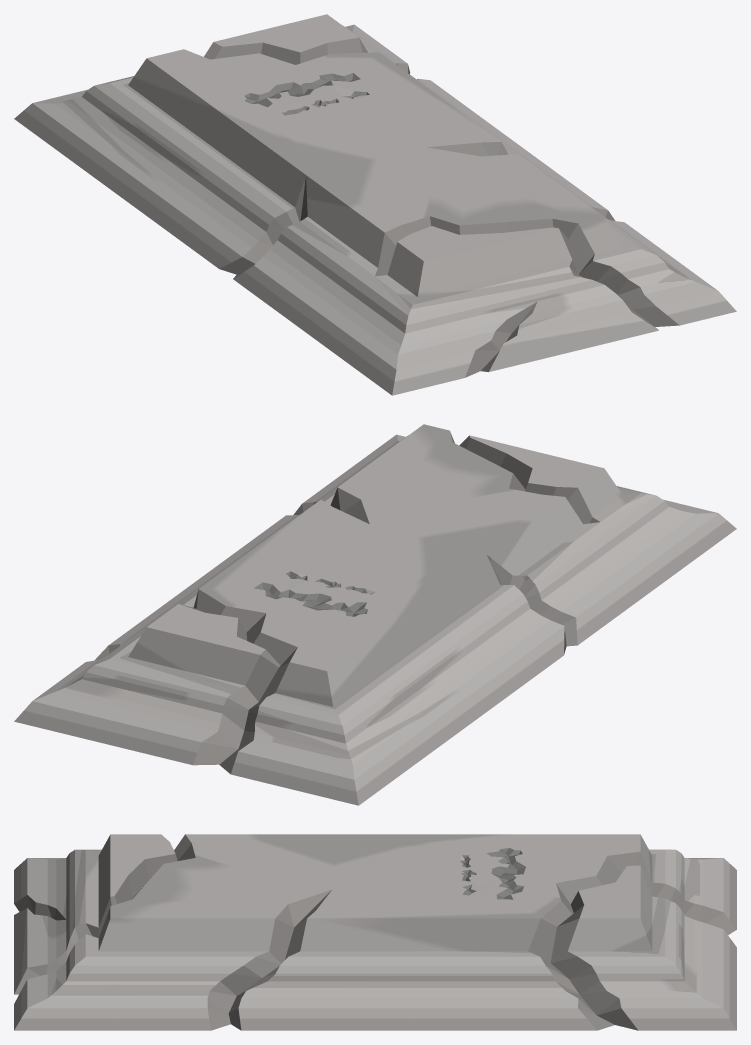
Rendered from crypt_stone_c.gltf.
3 renders of one model, top to bottom at view 1: azimuth 30°, elevation 25°; view 2: azimuth 150°, elevation 25°; view 3: azimuth 270°, elevation 25°, orthographic. The views are drawn at different scales.
Parts seen in each view (by area): view 1: crypt_stone_c; view 2: crypt_stone_c; view 3: crypt_stone_c.
Boxes of the visible parts, x1,y1,x2,y2 form: crypt_stone_c: (14, 14, 736, 395); crypt_stone_c: (14, 424, 736, 805); crypt_stone_c: (14, 834, 736, 1030).
Size of the model in its own units: 1.4 by 0.3 by 2.65.
Materials: 1 (1 with a texture image).
